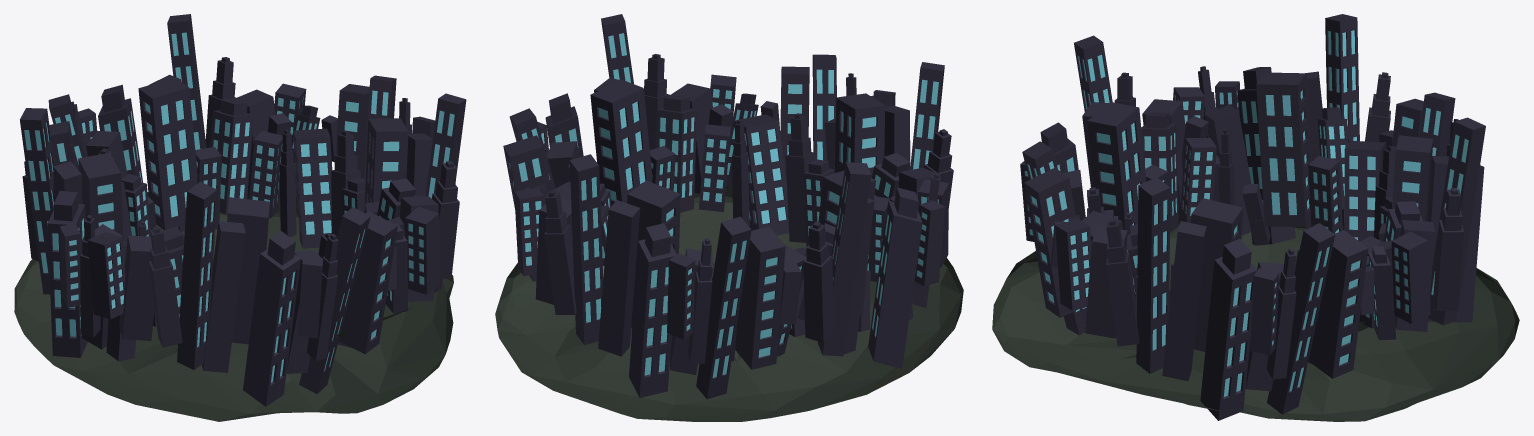
The model's file is citybackground2.fbx.
3 renders of one model, left to right at view 1: azimuth 30°, elevation 25°; view 2: azimuth 150°, elevation 25°; view 3: azimuth 270°, elevation 25°, orthographic. The views are drawn at different scales.
Parts seen in each view (by area): view 1: Icosphere; view 2: Icosphere; view 3: Icosphere.
Boxes of the visible parts, left/top/right/bottom form: Icosphere: left=14, top=14, right=466, bottom=421; Icosphere: left=495, top=14, right=963, bottom=421; Icosphere: left=992, top=14, right=1519, bottom=421.
Bounding box in the file's own units: 26882 × 16341 × 30020.
